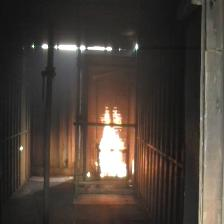fire: (98, 107, 127, 178)
